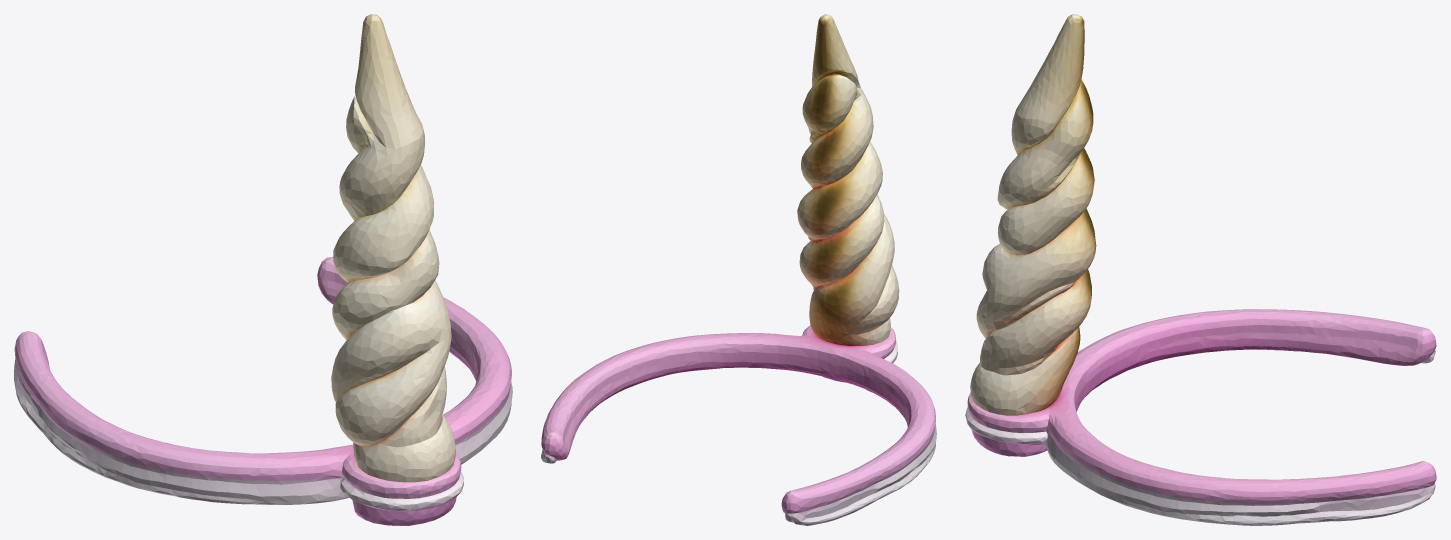
File: hat_horn.glb
3 views of the same model, side by side, from view 1: azimuth 30°, elevation 25°; view 2: azimuth 150°, elevation 25°; view 3: azimuth 270°, elevation 25° (orthographic). The views are drawn at different scales.
Parts seen in each view (by area): view 1: world; view 2: world; view 3: world.
Boxes of the visible parts, x1,y1,x2,y2 form: world: [14, 14, 512, 525]; world: [541, 14, 936, 525]; world: [965, 14, 1436, 525].
Bounding box in the file's own units: 0.9177 × 0.9914 × 0.9973.
Materials: 1 (1 with a texture image).
